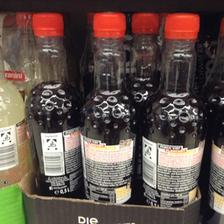Soda: (139, 11, 206, 208), (82, 9, 138, 202), (25, 13, 81, 196)
